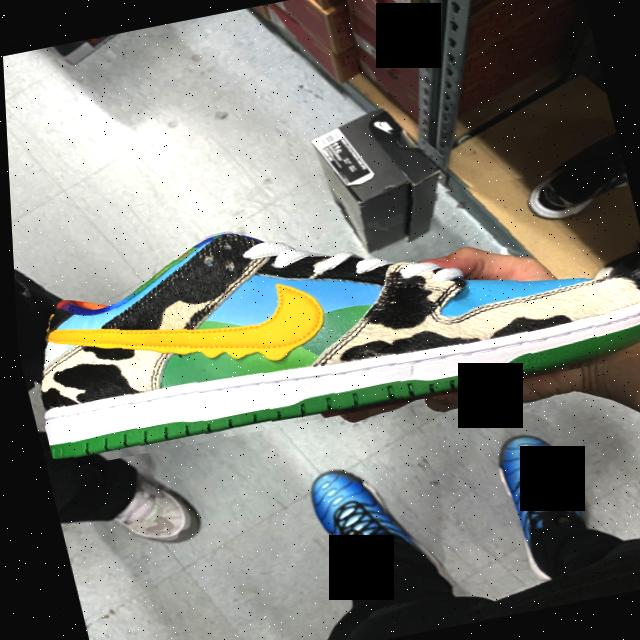shoe: (6, 150, 640, 471)
